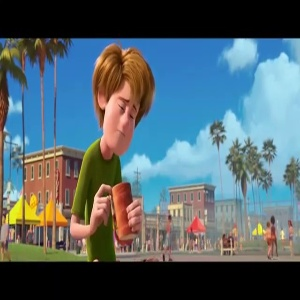Shagy: (89, 40, 166, 157)
